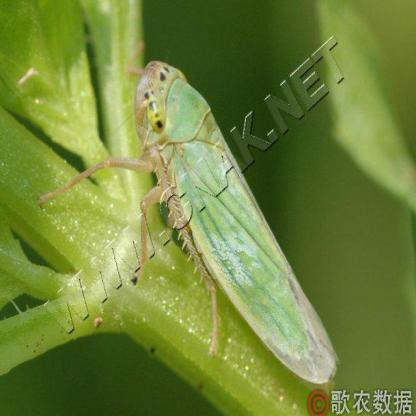Green-Leafhopper: (32, 46, 342, 386)
